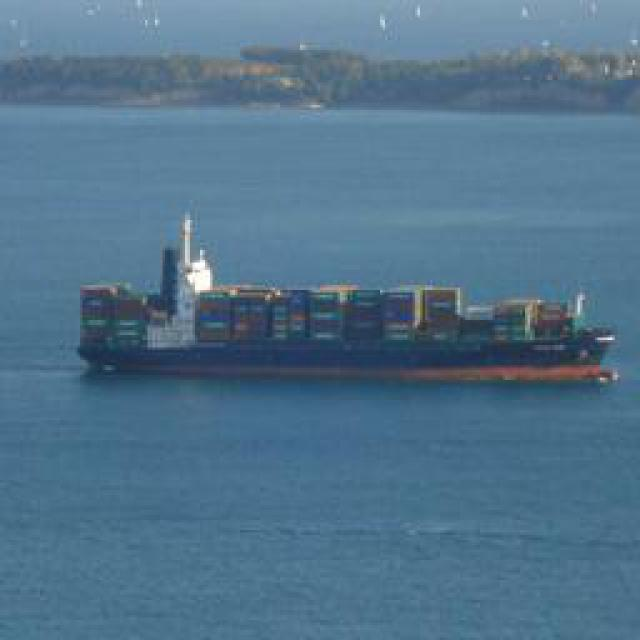Ship: (72, 224, 632, 387)
